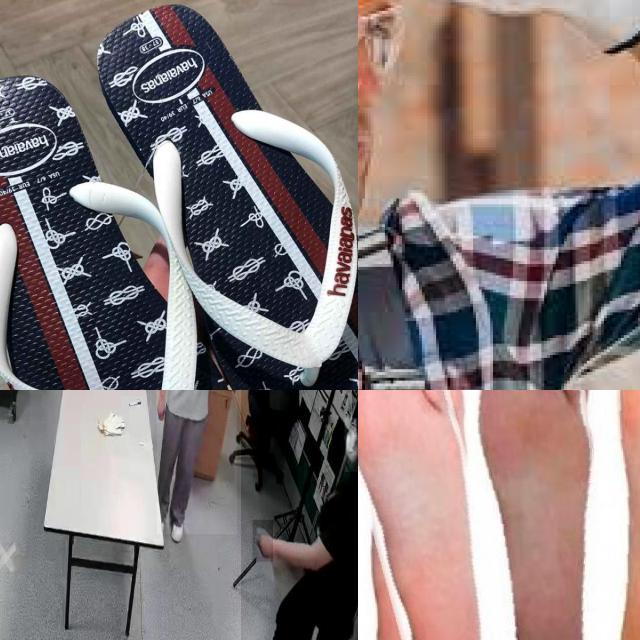Barefoots: (470, 390, 608, 640), (358, 390, 492, 640)
Sandals: (0, 0, 358, 390)
face_mask: (344, 418, 358, 472)
hand_noglove: (252, 520, 274, 562), (156, 390, 166, 423)
person: (241, 390, 358, 640), (156, 390, 237, 534)
shoes: (167, 500, 187, 546)
